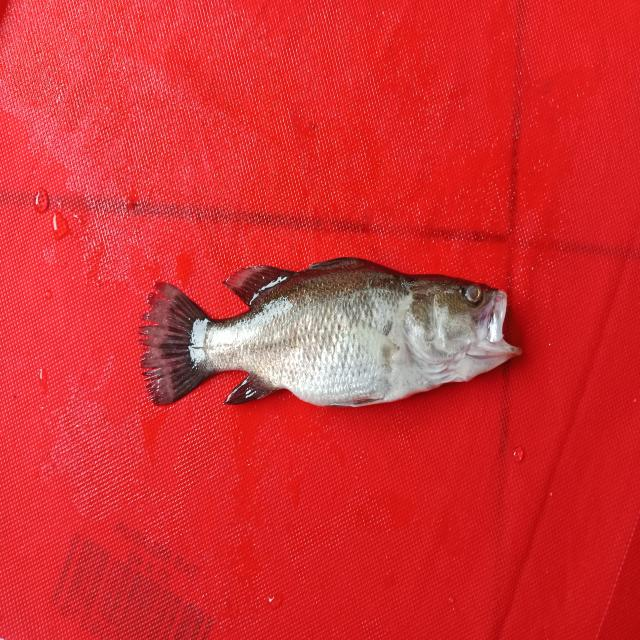ikan: (133, 199, 531, 439)
